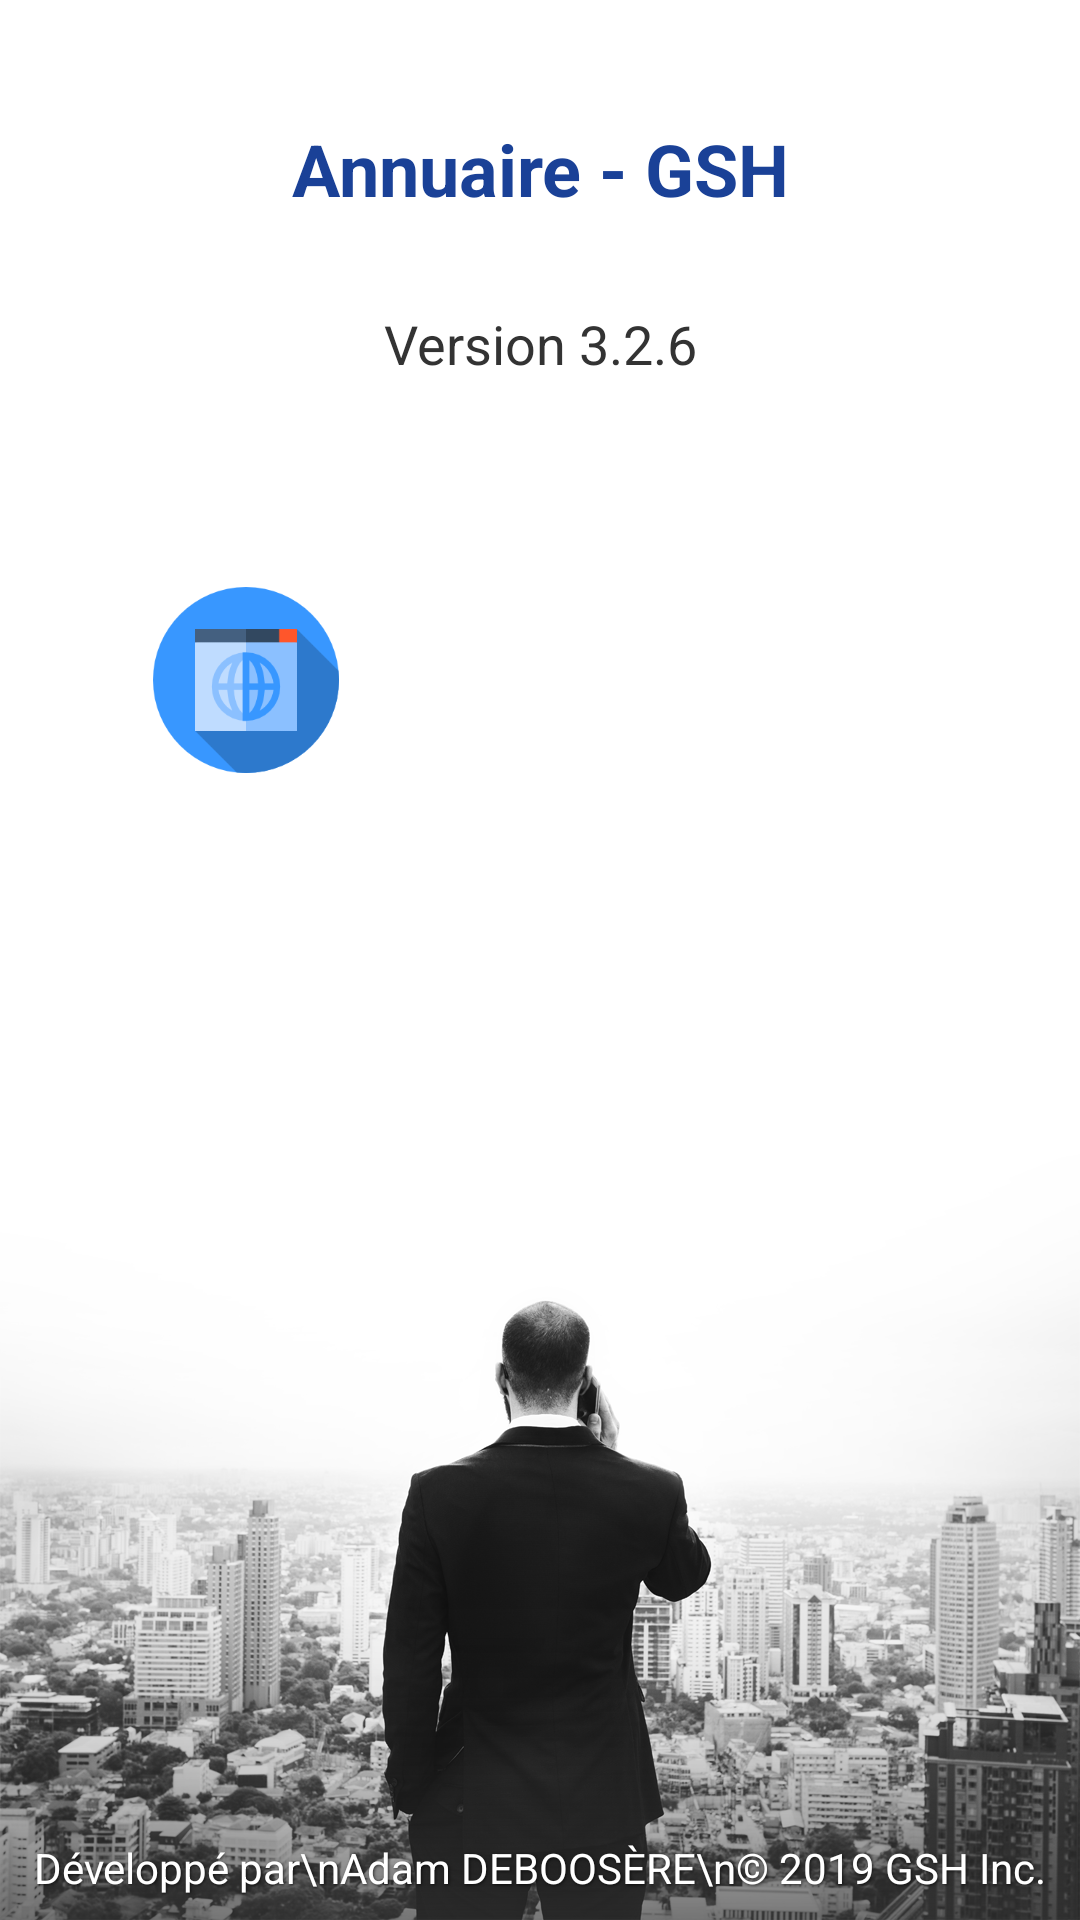

Icons on this 1080*1920 Android screen, each with its box as [x1=x1, y1=y1, x2=x2, y2=y2]:
url: [x1=153, y1=587, x2=339, y2=773]
